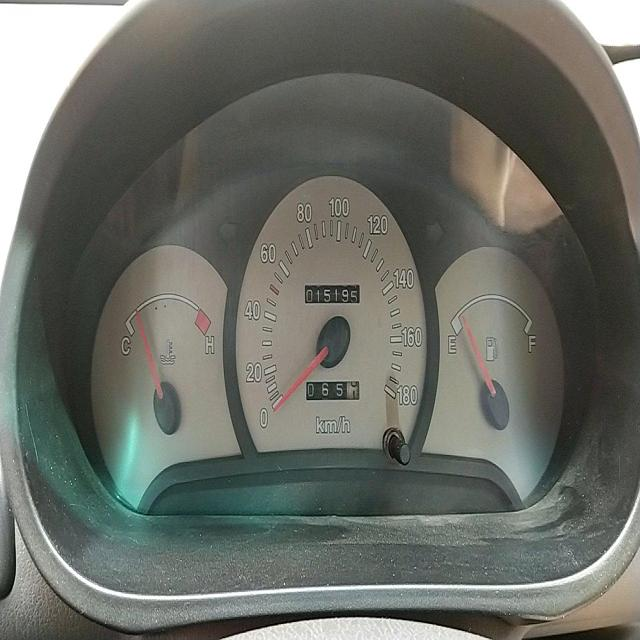odometer: (304, 282, 359, 304)
